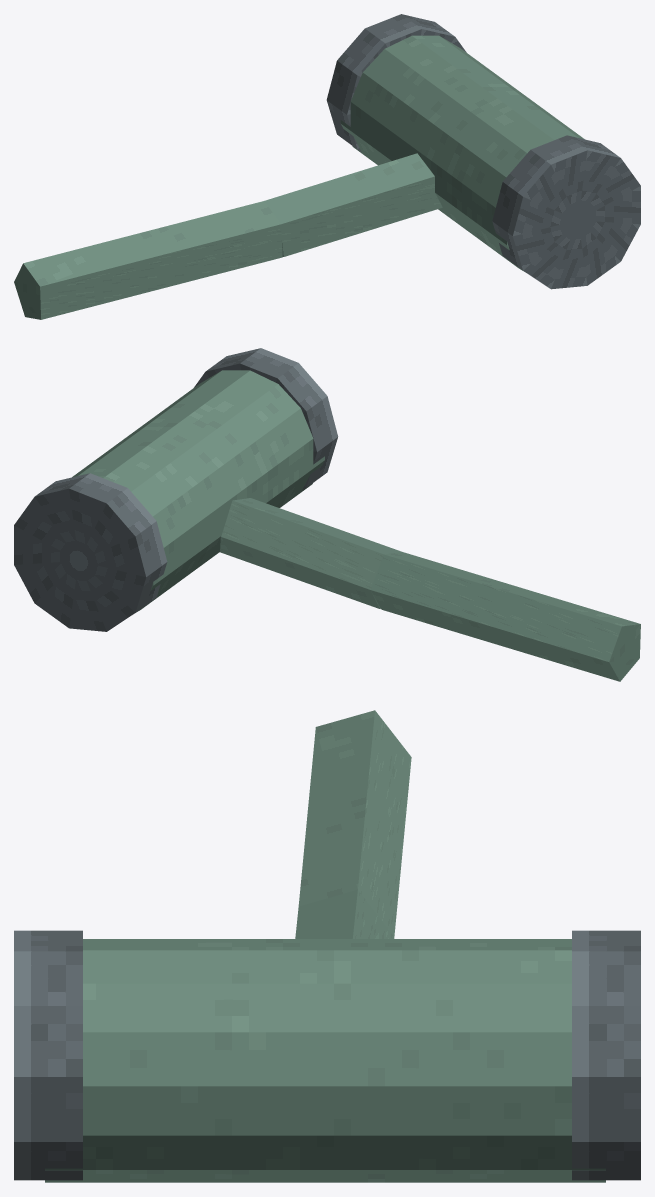
Rendered from puller.glb.
3 views of the same model, one above another, from view 1: azimuth 30°, elevation 25°; view 2: azimuth 150°, elevation 25°; view 3: azimuth 270°, elevation 25° (orthographic). The views are drawn at different scales.
Parts seen in each view (by area): view 1: block_hollow polymer head, block_cap (×2), block_impact puller handle 0, block_impact puller handle 1; view 2: block_hollow polymer head, block_cap (×2), block_impact puller handle 0, block_impact puller handle 1; view 3: block_hollow polymer head, block_cap (×2), block_impact puller handle 0, block_impact puller handle 1.
Part boxes in pixels (<box>): block_hollow polymer head: <box>340,35,584,271</box>; block_cap (×2): <box>326,14,640,289</box>; block_impact puller handle 0: <box>14,201,282,319</box>; block_impact puller handle 1: <box>264,153,442,256</box>; block_hollow polymer head: <box>72,370,324,612</box>; block_cap (×2): <box>14,348,338,631</box>; block_impact puller handle 0: <box>370,552,640,681</box>; block_impact puller handle 1: <box>220,498,401,608</box>; block_hollow polymer head: <box>45,939,605,1182</box>; block_cap (×2): <box>14,930,640,1180</box>; block_impact puller handle 0: <box>298,710,411,936</box>; block_impact puller handle 1: <box>295,889,394,938</box>.
Size of the model in its own units: 0.35 by 0.0887 by 0.2207.
Materials: 1 (1 with a texture image).
